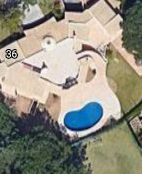pool: (67, 109, 102, 125)
